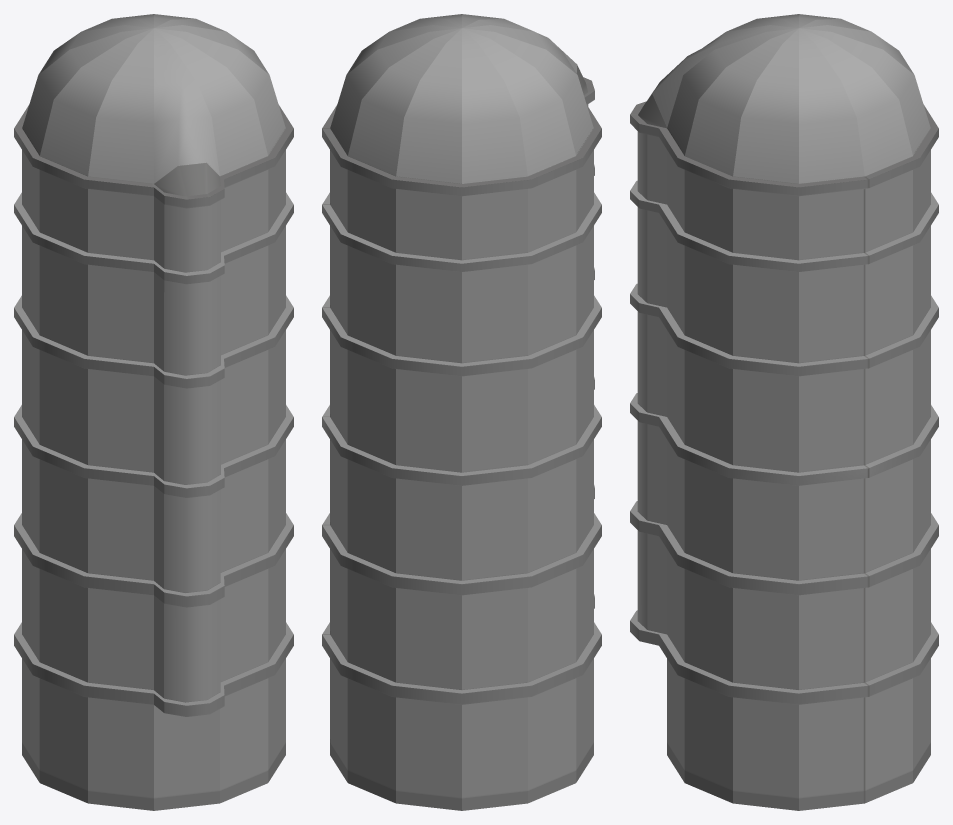
File: silo.fbx
3 views of the same model, side by side, from view 1: azimuth 30°, elevation 25°; view 2: azimuth 150°, elevation 25°; view 3: azimuth 270°, elevation 25° (orthographic).
Visible parts, largest first — view 1: pCylinder1; view 2: pCylinder1; view 3: pCylinder1.
Boxes of the visible parts, x1,y1,x2,y2 form: pCylinder1: [14, 14, 293, 810]; pCylinder1: [322, 14, 601, 810]; pCylinder1: [630, 14, 938, 810].
Size of the model in its own units: 6.6 by 18.94 by 7.29.
